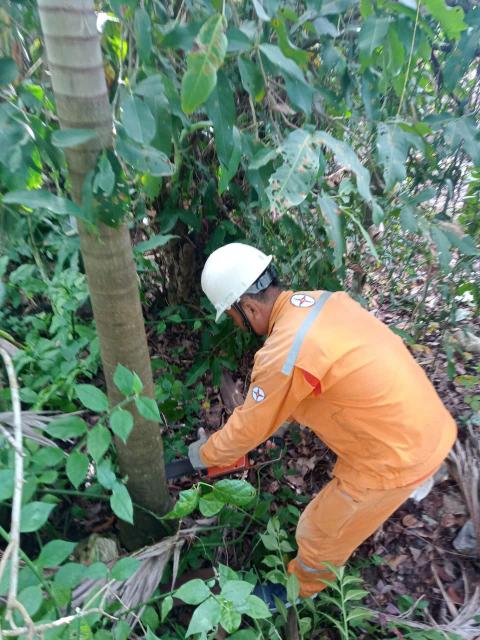gloves: (179, 430, 218, 473)
helmet: (189, 242, 270, 311)
shoes: (234, 578, 324, 622)
